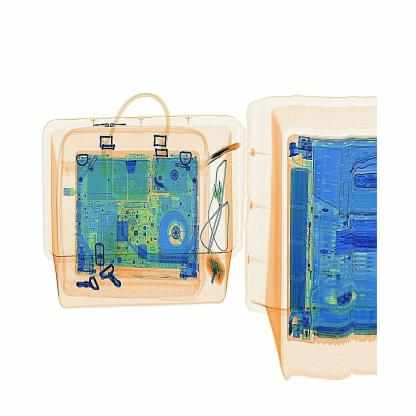wrench: (199, 136, 246, 165)
